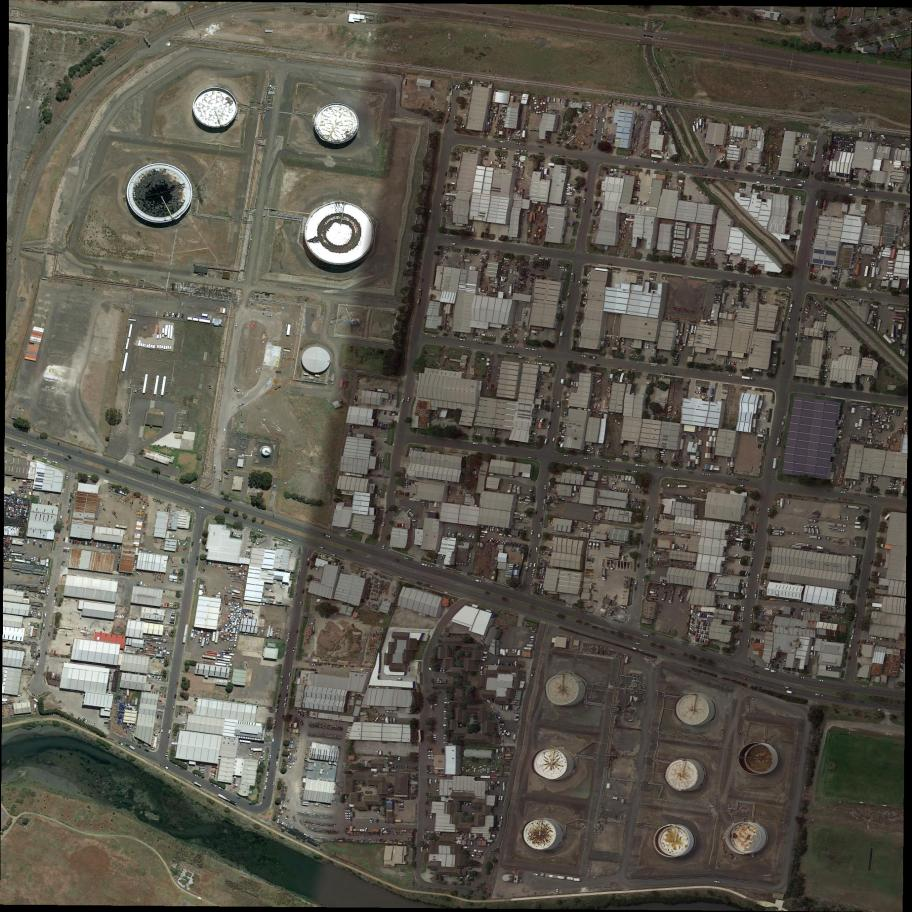large-vehicle: (668, 588, 675, 604), (191, 779, 202, 788), (794, 542, 812, 547), (845, 504, 860, 510), (829, 523, 847, 528), (829, 527, 846, 532), (160, 763, 169, 771), (773, 458, 778, 469), (507, 484, 513, 493), (602, 569, 606, 581), (774, 530, 785, 534), (742, 376, 753, 380), (780, 498, 784, 508), (202, 638, 206, 647), (772, 533, 784, 536), (809, 536, 821, 539), (251, 748, 262, 751), (513, 485, 517, 493), (662, 593, 666, 601), (807, 526, 811, 534), (815, 526, 819, 533), (804, 525, 807, 533), (754, 369, 762, 372), (811, 526, 814, 533)
small-vehicle: (650, 160, 660, 165), (405, 508, 412, 515), (815, 693, 824, 698), (91, 721, 97, 728), (733, 553, 740, 559), (817, 306, 824, 312), (544, 437, 549, 445), (752, 670, 760, 675), (786, 690, 794, 695), (488, 537, 494, 543), (533, 509, 539, 515), (898, 667, 904, 673), (787, 285, 793, 291), (564, 199, 570, 205), (345, 528, 352, 533), (439, 554, 444, 561), (505, 540, 510, 547), (517, 542, 522, 549), (523, 501, 530, 506), (183, 540, 188, 547), (218, 786, 225, 791), (210, 783, 217, 788), (643, 633, 650, 638), (634, 642, 641, 647), (740, 676, 747, 681), (497, 140, 505, 144), (559, 330, 564, 336), (538, 394, 544, 399), (486, 537, 491, 543), (496, 538, 501, 544), (514, 542, 519, 548), (507, 541, 512, 547), (551, 437, 556, 443), (547, 419, 552, 425), (67, 454, 72, 460), (52, 460, 58, 465), (223, 471, 229, 476), (81, 718, 86, 724), (690, 620, 696, 625), (698, 637, 703, 643), (683, 495, 688, 501), (679, 494, 684, 500), (657, 531, 663, 536), (374, 716, 379, 722), (822, 163, 828, 168), (815, 302, 820, 308), (813, 300, 818, 306), (662, 130, 668, 135), (659, 111, 665, 116), (643, 200, 648, 206), (798, 306, 803, 312), (534, 253, 541, 257), (582, 198, 586, 205), (442, 189, 446, 196), (284, 650, 288, 657), (475, 579, 482, 583), (547, 495, 551, 502), (109, 543, 113, 550), (274, 708, 278, 715), (42, 624, 46, 631), (36, 660, 40, 667), (79, 716, 83, 723), (170, 602, 174, 609), (706, 639, 710, 646), (744, 593, 748, 600), (622, 453, 629, 457), (763, 579, 767, 586), (842, 602, 846, 609), (877, 572, 881, 579), (650, 633, 657, 637), (833, 292, 840, 296), (820, 263, 824, 270), (771, 183, 778, 187), (738, 188, 745, 192), (853, 480, 857, 487), (688, 471, 695, 475), (743, 478, 750, 482), (503, 541, 508, 546), (136, 572, 141, 577), (171, 534, 176, 539), (287, 538, 292, 543), (182, 546, 187, 551), (688, 632, 693, 637), (689, 627, 694, 632), (691, 617, 696, 622), (692, 615, 697, 620), (395, 558, 400, 563), (817, 304, 822, 309), (459, 345, 465, 349), (589, 208, 593, 214), (482, 157, 488, 161), (543, 363, 549, 367), (535, 362, 543, 365), (398, 576, 404, 580), (325, 534, 331, 538), (331, 553, 337, 557), (319, 546, 325, 550), (315, 565, 319, 571), (280, 675, 284, 681), (481, 145, 489, 148), (533, 562, 537, 568), (529, 562, 533, 568), (516, 547, 520, 553), (511, 541, 515, 547), (447, 531, 451, 537), (537, 417, 541, 423), (476, 433, 482, 437), (379, 421, 383, 427), (407, 396, 411, 402), (384, 508, 388, 514), (543, 498, 547, 504), (517, 501, 523, 505), (374, 493, 378, 499), (402, 485, 408, 489), (23, 450, 29, 454), (190, 486, 196, 490), (114, 544, 118, 550), (106, 543, 110, 549), (104, 542, 108, 548), (93, 541, 97, 547), (177, 313, 181, 319), (155, 310, 159, 316), (77, 716, 81, 722), (45, 591, 49, 597), (268, 755, 272, 761), (236, 796, 242, 800), (218, 563, 222, 569), (177, 539, 181, 545), (193, 773, 199, 777), (156, 713, 160, 719), (158, 658, 162, 664), (152, 658, 156, 664), (686, 638, 692, 642), (696, 612, 700, 618), (728, 604, 732, 610), (634, 586, 638, 592), (634, 580, 638, 586), (645, 515, 649, 521), (756, 573, 760, 579), (750, 557, 754, 563), (738, 559, 742, 565), (156, 641, 162, 645), (717, 659, 723, 663), (500, 795, 504, 801), (497, 795, 501, 801), (841, 589, 845, 595), (844, 589, 848, 595), (847, 590, 851, 596), (864, 591, 868, 597), (851, 629, 855, 635), (850, 634, 854, 640), (855, 515, 859, 521), (766, 662, 770, 668), (860, 639, 864, 645), (660, 453, 666, 457), (843, 172, 847, 178), (883, 198, 889, 202), (821, 154, 825, 160), (710, 252, 716, 256), (850, 295, 856, 299), (840, 293, 846, 297), (818, 276, 822, 282), (703, 133, 707, 139), (707, 148, 711, 154), (416, 581, 422, 585), (811, 170, 815, 176), (791, 178, 797, 182), (729, 177, 735, 181), (688, 195, 692, 201), (638, 200, 642, 206), (637, 179, 641, 185), (835, 496, 841, 500), (897, 396, 903, 400), (737, 477, 743, 481), (721, 391, 729, 394), (538, 257, 545, 260), (558, 266, 565, 269), (518, 356, 525, 359), (524, 360, 531, 363), (536, 355, 543, 358), (531, 330, 538, 333), (509, 346, 516, 349), (288, 671, 291, 678), (520, 150, 527, 153), (538, 153, 545, 156), (538, 145, 545, 148), (557, 401, 560, 408), (457, 524, 464, 527), (479, 535, 486, 538), (496, 430, 503, 433), (378, 462, 381, 469), (9, 446, 16, 449), (77, 539, 80, 546), (38, 645, 41, 652), (198, 506, 205, 509), (165, 751, 168, 758), (344, 812, 351, 815), (168, 602, 171, 609), (199, 538, 202, 545), (191, 540, 194, 547), (702, 612, 705, 619), (603, 460, 610, 463), (669, 533, 676, 536), (682, 644, 689, 647), (720, 671, 727, 674), (733, 672, 740, 675), (755, 686, 762, 689), (855, 612, 858, 619), (816, 199, 819, 206), (850, 187, 857, 190), (845, 288, 852, 291), (812, 270, 819, 273), (674, 163, 681, 166), (634, 189, 641, 192), (872, 495, 879, 498), (890, 477, 897, 480), (623, 348, 626, 355), (580, 355, 587, 358), (743, 292, 750, 295), (555, 154, 560, 158), (463, 113, 468, 117), (494, 539, 498, 544), (469, 533, 473, 538), (501, 540, 505, 545), (540, 517, 544, 522), (496, 527, 500, 532), (547, 424, 551, 429), (31, 456, 35, 461), (224, 476, 229, 480), (84, 719, 88, 724), (273, 719, 277, 724), (272, 724, 276, 729), (144, 749, 149, 753), (136, 744, 141, 748), (179, 766, 184, 770), (174, 764, 179, 768), (174, 694, 178, 699), (175, 681, 179, 686), (539, 584, 543, 589), (690, 623, 695, 627), (696, 638, 700, 643), (757, 507, 761, 512), (645, 558, 649, 563), (687, 496, 692, 500), (652, 517, 656, 522), (749, 562, 753, 567), (663, 532, 668, 536), (439, 668, 443, 673), (740, 628, 744, 633), (632, 647, 637, 651), (847, 655, 851, 660), (864, 174, 868, 179), (803, 161, 808, 165), (664, 152, 668, 157), (786, 178, 791, 182), (684, 253, 688, 258), (727, 361, 731, 366), (561, 304, 564, 310), (545, 258, 551, 261), (468, 238, 474, 241), (551, 397, 554, 403), (443, 183, 446, 189), (445, 171, 448, 177), (464, 346, 470, 349), (477, 341, 483, 344), (502, 345, 508, 348), (504, 333, 510, 336), (538, 167, 544, 170), (302, 589, 305, 595), (292, 646, 295, 652), (286, 684, 289, 690), (285, 697, 288, 703), (284, 702, 287, 708), (382, 544, 385, 550), (403, 557, 409, 560), (538, 162, 544, 165), (267, 314, 273, 317), (516, 143, 522, 146), (460, 123, 463, 129), (448, 107, 451, 113), (450, 90, 453, 96), (455, 85, 458, 91), (488, 526, 491, 532), (485, 526, 488, 532), (402, 398, 405, 404), (530, 582, 533, 588), (533, 568, 536, 574), (411, 519, 417, 522), (583, 457, 589, 460), (563, 454, 569, 457), (551, 407, 554, 413), (489, 432, 495, 435), (473, 442, 479, 445), (389, 410, 392, 416), (384, 410, 387, 416), (382, 521, 385, 527), (376, 452, 379, 458), (548, 480, 551, 486), (510, 476, 516, 479), (405, 473, 408, 479), (556, 888, 559, 894), (69, 498, 72, 504), (27, 539, 30, 545), (42, 457, 48, 460), (21, 444, 27, 447), (112, 544, 115, 550), (102, 542, 105, 548), (96, 541, 99, 547), (80, 539, 83, 545), (166, 311, 169, 317), (53, 599, 56, 605), (41, 631, 44, 637), (47, 631, 50, 637), (38, 652, 41, 658), (103, 724, 109, 727), (161, 727, 164, 733), (158, 738, 161, 744), (47, 584, 50, 590), (276, 761, 279, 767), (345, 817, 351, 820), (265, 777, 268, 783), (245, 552, 251, 555), (195, 561, 198, 567), (196, 555, 199, 561), (190, 548, 193, 554), (200, 764, 206, 767), (211, 766, 217, 769), (210, 770, 216, 773), (209, 773, 215, 776), (200, 771, 206, 774), (172, 705, 175, 711), (537, 586, 540, 592), (700, 612, 703, 618), (722, 603, 725, 609), (694, 637, 697, 643), (704, 638, 707, 644), (587, 606, 593, 609), (637, 562, 640, 568), (733, 540, 736, 546), (753, 541, 756, 547), (740, 542, 743, 548), (649, 553, 655, 556), (390, 717, 393, 723), (376, 750, 379, 756), (398, 756, 401, 762), (405, 764, 408, 770), (482, 656, 488, 659), (500, 815, 503, 821), (430, 813, 433, 819), (466, 801, 469, 807), (429, 778, 432, 784), (432, 733, 438, 736), (443, 724, 449, 727), (481, 665, 484, 671), (784, 686, 790, 689), (853, 623, 856, 629), (857, 592, 860, 598), (880, 561, 883, 567), (870, 560, 873, 566), (747, 638, 750, 644), (876, 709, 882, 712), (799, 676, 805, 679), (871, 637, 877, 640), (857, 639, 860, 645), (839, 171, 842, 177), (846, 173, 849, 179), (841, 186, 847, 189), (826, 138, 829, 144), (810, 161, 816, 164), (903, 302, 909, 305), (871, 261, 877, 264), (751, 144, 757, 147), (699, 167, 705, 170), (693, 166, 699, 169), (594, 128, 597, 134), (815, 150, 818, 156), (807, 133, 810, 139), (804, 133, 807, 139), (801, 133, 804, 139), (632, 198, 638, 201), (760, 428, 763, 434), (848, 499, 854, 502), (873, 477, 879, 480), (888, 485, 894, 488), (820, 393, 826, 396), (823, 364, 829, 367), (635, 464, 641, 467), (695, 387, 701, 390), (728, 375, 734, 378), (823, 366, 829, 369), (761, 296, 767, 299), (715, 298, 721, 301), (715, 293, 721, 296), (631, 368, 637, 371), (826, 349, 832, 352), (747, 281, 753, 284), (731, 360, 737, 363), (740, 360, 746, 363), (795, 336, 798, 342), (787, 326, 790, 332), (788, 317, 791, 323), (797, 316, 800, 322), (790, 303, 793, 309), (690, 625, 694, 629), (645, 563, 649, 567), (780, 299, 788, 301), (567, 293, 570, 298), (491, 161, 494, 166), (478, 332, 481, 337), (475, 332, 478, 337), (231, 531, 234, 536), (300, 601, 303, 606), (286, 638, 289, 643), (287, 633, 290, 638), (280, 681, 283, 686), (515, 152, 520, 155), (515, 149, 520, 152), (448, 102, 451, 107), (447, 113, 450, 118), (458, 84, 461, 89), (277, 699, 280, 704), (466, 525, 471, 528), (490, 527, 493, 532), (470, 545, 473, 550), (472, 534, 475, 539), (459, 532, 462, 537), (452, 533, 455, 538), (532, 573, 535, 578), (529, 547, 532, 552), (536, 547, 539, 552), (384, 438, 387, 443), (377, 421, 380, 426), (388, 400, 391, 405), (552, 536, 555, 541), (540, 521, 543, 526), (542, 505, 545, 510), (544, 484, 547, 489), (278, 693, 281, 698), (276, 704, 279, 709), (34, 557, 37, 562), (63, 537, 66, 542), (65, 520, 68, 525), (60, 515, 63, 520), (56, 536, 59, 541), (25, 538, 28, 543), (47, 501, 50, 506), (66, 476, 69, 481), (38, 557, 41, 562), (134, 559, 137, 564), (117, 544, 120, 549), (99, 542, 102, 547), (91, 541, 94, 546), (89, 541, 92, 546), (223, 428, 226, 433), (235, 323, 238, 328), (181, 314, 184, 319), (181, 301, 184, 306), (174, 313, 177, 318), (132, 568, 135, 573), (57, 674, 60, 679), (49, 623, 52, 628), (268, 761, 271, 766), (267, 767, 270, 772), (266, 771, 269, 776), (370, 818, 373, 823), (262, 795, 265, 800), (54, 593, 57, 598), (171, 611, 176, 614), (281, 537, 286, 540), (258, 529, 263, 532), (211, 563, 214, 568), (170, 619, 175, 622), (705, 613, 708, 618), (668, 629, 671, 634), (751, 608, 754, 613), (725, 604, 728, 609), (701, 638, 704, 643), (701, 626, 704, 631), (704, 622, 707, 627), (746, 582, 749, 587), (642, 577, 645, 582), (647, 542, 650, 547), (641, 541, 644, 546), (647, 506, 650, 511), (597, 465, 602, 468), (593, 600, 598, 603), (756, 511, 759, 516), (756, 578, 759, 583), (745, 571, 748, 576), (751, 525, 754, 530), (737, 542, 740, 547), (393, 718, 396, 723), (283, 584, 286, 589), (440, 679, 443, 684), (463, 801, 466, 806), (432, 738, 437, 741), (481, 671, 484, 676), (840, 601, 843, 606), (757, 639, 760, 644), (738, 640, 741, 645), (639, 649, 644, 652), (854, 618, 857, 623), (846, 515, 849, 520), (838, 515, 841, 520), (769, 663, 772, 668), (867, 640, 870, 645), (864, 639, 867, 644), (845, 178, 848, 183), (803, 164, 808, 167), (836, 185, 841, 188), (821, 166, 824, 171), (795, 196, 798, 201), (799, 196, 802, 201), (793, 230, 796, 235), (848, 276, 853, 279), (871, 263, 876, 266), (872, 257, 877, 260), (681, 164, 686, 167), (663, 169, 668, 172), (723, 170, 728, 173), (728, 259, 733, 262), (826, 489, 831, 492), (672, 475, 677, 478), (707, 474, 712, 477), (665, 184, 668, 189), (727, 279, 732, 282), (749, 275, 754, 278), (789, 308, 792, 313), (737, 281, 742, 284), (795, 332, 798, 337), (459, 339, 466, 341), (538, 165, 545, 167), (501, 148, 508, 150), (421, 564, 428, 566), (265, 734, 272, 736), (199, 767, 206, 769), (437, 678, 439, 685), (427, 755, 434, 757), (796, 184, 803, 186), (622, 157, 629, 159), (800, 181, 807, 183), (840, 491, 847, 493), (872, 480, 879, 482), (873, 475, 880, 477), (625, 469, 632, 471), (657, 467, 664, 469), (694, 392, 701, 394), (636, 279, 643, 281), (825, 348, 832, 350), (731, 363, 738, 365), (714, 881, 720, 883), (451, 243, 457, 245), (430, 335, 436, 337), (512, 161, 518, 163), (440, 201, 442, 207), (500, 157, 506, 159), (513, 353, 519, 355), (505, 351, 511, 353), (502, 336, 508, 338), (488, 343, 494, 345), (482, 334, 488, 336), (538, 169, 544, 171), (238, 533, 241, 537), (454, 115, 456, 121), (468, 559, 471, 563), (492, 539, 495, 543), (428, 565, 434, 567), (574, 463, 580, 465), (491, 445, 497, 447), (489, 429, 495, 431), (527, 457, 533, 459), (531, 529, 533, 535), (394, 490, 396, 496), (381, 457, 383, 463), (31, 557, 33, 563), (40, 498, 42, 504), (73, 538, 75, 544), (87, 540, 89, 546), (65, 644, 71, 646), (55, 587, 58, 591), (272, 737, 274, 743), (345, 815, 351, 817), (344, 810, 350, 812), (166, 603, 169, 607), (247, 539, 253, 541), (200, 769, 206, 771), (164, 693, 166, 699), (742, 617, 744, 623), (750, 615, 753, 619), (743, 607, 746, 611), (707, 622, 709, 628), (698, 634, 701, 638), (703, 631, 706, 635), (699, 629, 701, 635), (720, 603, 722, 609), (662, 515, 664, 521), (634, 454, 640, 456), (731, 540, 733, 546), (752, 547, 755, 551), (390, 770, 396, 772), (161, 647, 167, 649), (481, 659, 487, 661), (498, 659, 500, 665), (421, 847, 423, 853), (443, 742, 449, 744), (444, 702, 450, 704), (760, 639, 762, 645), (818, 679, 824, 681), (862, 685, 868, 687), (641, 450, 647, 452), (837, 170, 839, 176), (842, 172, 844, 178), (660, 452, 666, 454), (869, 190, 875, 192), (810, 237, 813, 241), (870, 298, 874, 301), (867, 292, 873, 294), (831, 287, 837, 289), (700, 129, 703, 133), (601, 135, 603, 141), (602, 128, 604, 134), (802, 145, 804, 151), (756, 175, 762, 177), (702, 174, 708, 176), (855, 493, 861, 495), (889, 483, 895, 485), (890, 480, 896, 482), (822, 371, 828, 373), (822, 369, 828, 371), (739, 485, 745, 487), (726, 483, 732, 485), (632, 471, 638, 473), (673, 469, 679, 471), (825, 356, 831, 358), (715, 301, 721, 303), (636, 283, 642, 285), (651, 365, 657, 367), (595, 364, 601, 366), (755, 276, 759, 279), (774, 299, 780, 301), (827, 345, 831, 348), (512, 164, 517, 166), (483, 331, 488, 333), (532, 349, 537, 351), (474, 339, 479, 341), (490, 335, 495, 337), (308, 556, 310, 561), (561, 155, 566, 157), (493, 527, 495, 532), (457, 532, 459, 537), (540, 567, 542, 572), (542, 567, 544, 572), (500, 527, 502, 532), (569, 462, 574, 464), (551, 531, 556, 533), (380, 488, 382, 493), (406, 480, 408, 485), (68, 508, 70, 513), (69, 503, 71, 508), (75, 539, 77, 544), (68, 548, 70, 553), (65, 548, 67, 553), (83, 540, 85, 545), (172, 312, 174, 317), (164, 312, 166, 317), (36, 655, 38, 660), (55, 674, 57, 679), (104, 722, 109, 724), (24, 596, 29, 598), (277, 754, 279, 759), (265, 785, 267, 790), (164, 602, 166, 607), (215, 563, 217, 568), (176, 547, 178, 552), (186, 536, 188, 541), (170, 615, 175, 617), (170, 617, 175, 619), (162, 703, 164, 708), (169, 622, 174, 624), (542, 589, 544, 594), (741, 606, 743, 611), (695, 624, 697, 629), (703, 618, 708, 620), (696, 633, 698, 638), (706, 631, 708, 636), (706, 627, 708, 632), (768, 507, 770, 512), (443, 668, 445, 673), (408, 667, 410, 672), (250, 615, 255, 617), (280, 583, 282, 588), (193, 579, 195, 584), (469, 802, 471, 807), (428, 757, 433, 759), (435, 779, 437, 784), (755, 639, 757, 644), (844, 515, 846, 520), (788, 499, 790, 504), (827, 669, 832, 671), (827, 666, 832, 668), (856, 652, 858, 657), (661, 456, 666, 458), (853, 178, 858, 180), (848, 178, 850, 183), (871, 259, 876, 261), (806, 262, 808, 267), (720, 158, 725, 160), (688, 166, 693, 168), (636, 165, 641, 167), (696, 173, 701, 175), (724, 177, 729, 179), (635, 187, 640, 189), (711, 175, 716, 177), (723, 256, 728, 258), (722, 262, 727, 264), (843, 498, 848, 500), (889, 489, 894, 491), (763, 429, 765, 434), (758, 415, 760, 420), (734, 484, 739, 486), (701, 473, 706, 475), (721, 399, 726, 401), (764, 416, 766, 421), (727, 264, 732, 266), (714, 288, 719, 290), (637, 281, 642, 283), (467, 226, 472, 228), (826, 354, 831, 356), (826, 352, 831, 354), (783, 360, 785, 365), (234, 532, 236, 536), (522, 144, 526, 146), (469, 554, 471, 558), (541, 572, 543, 576), (539, 572, 541, 576), (63, 549, 65, 553), (85, 541, 87, 545), (169, 312, 171, 316), (273, 781, 275, 785), (149, 668, 151, 672), (740, 618, 742, 622), (696, 619, 698, 623), (705, 635, 707, 639), (703, 635, 705, 639), (701, 634, 703, 638), (701, 631, 703, 635), (697, 629, 699, 633), (700, 626, 702, 630), (704, 627, 706, 631), (592, 465, 596, 467), (755, 594, 757, 598), (762, 591, 764, 595), (750, 540, 752, 544), (429, 751, 433, 753), (433, 736, 437, 738), (747, 644, 749, 648), (743, 281, 747, 283), (715, 297, 722, 298), (525, 348, 531, 349), (505, 332, 511, 333), (70, 538, 71, 544), (641, 466, 647, 467), (731, 366, 737, 367), (721, 156, 726, 157), (776, 178, 781, 179), (617, 367, 622, 368), (751, 620, 752, 624), (540, 589, 541, 593)
storage-tank: (306, 202, 374, 266), (127, 162, 193, 223), (314, 102, 359, 144), (192, 87, 238, 128), (655, 824, 690, 859), (725, 822, 761, 854), (739, 742, 774, 774), (675, 693, 710, 725), (546, 672, 579, 705), (666, 758, 699, 791), (534, 747, 567, 780), (523, 818, 556, 850), (301, 345, 331, 374), (262, 447, 271, 456)
